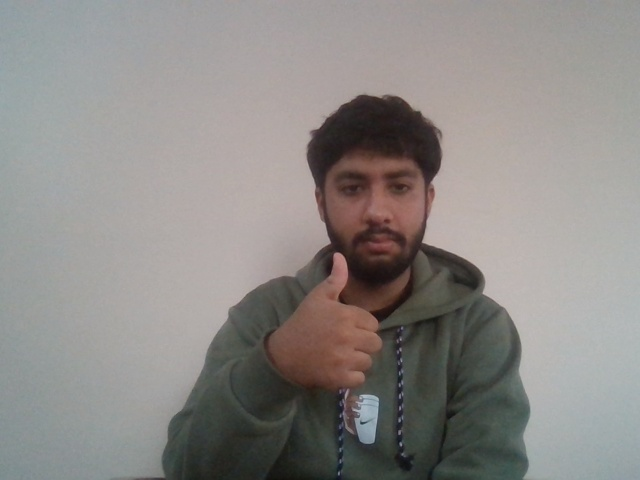Yes: (282, 243, 388, 390)
